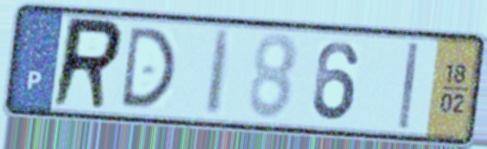6: (312, 39, 361, 123)
8: (246, 30, 303, 125)
D: (117, 24, 179, 110)
I: (202, 27, 237, 120), (396, 39, 422, 133)
R: (47, 14, 127, 113)
